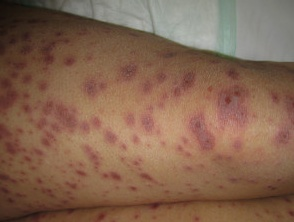SJS-TEN: (0, 2, 294, 222), (14, 194, 294, 222)
